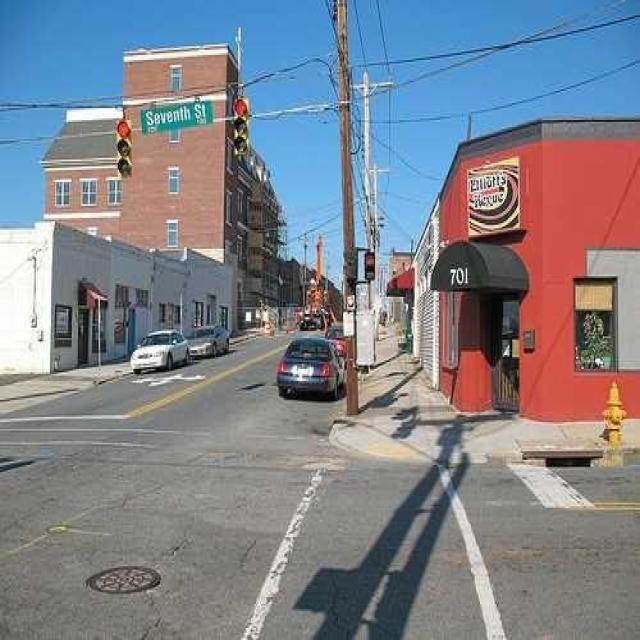Traffic Light -Red-: (229, 94, 252, 160), (114, 117, 134, 182)
